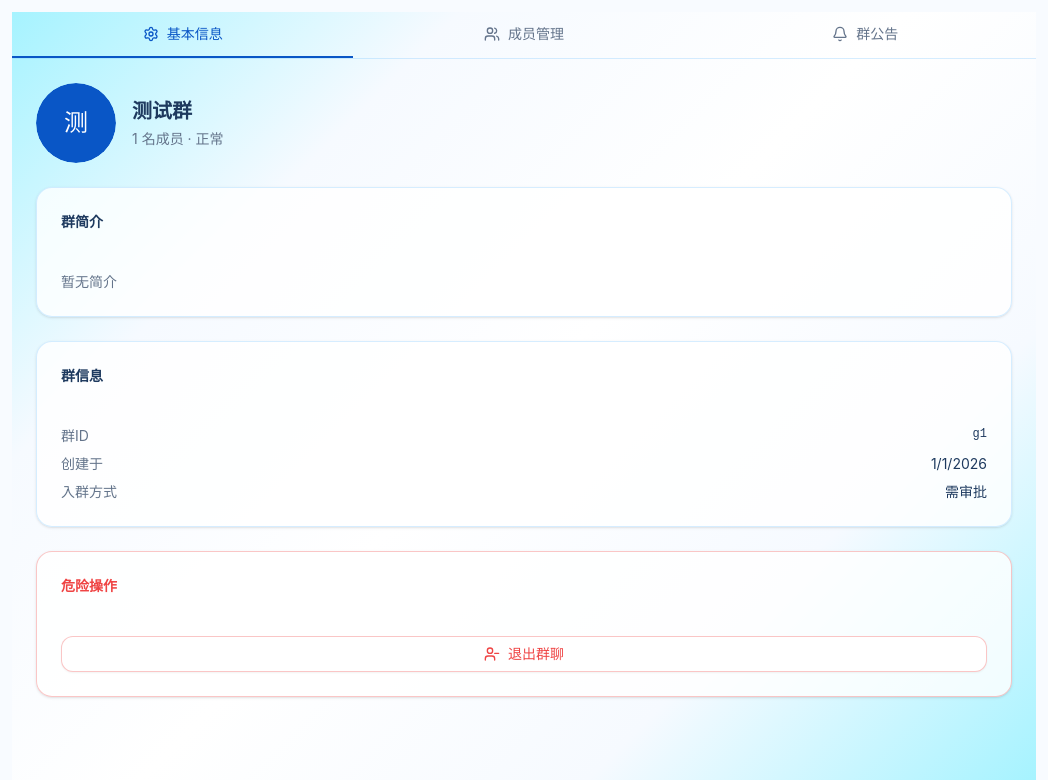
Scenario: GroupManagement 成员列表三态（loadMembers → membersError） › 真正的空列表：显示"暂无成员"，不显示错误或重试
Click the button "成员管理".
click(524, 35)  # box [353,12,695,58]
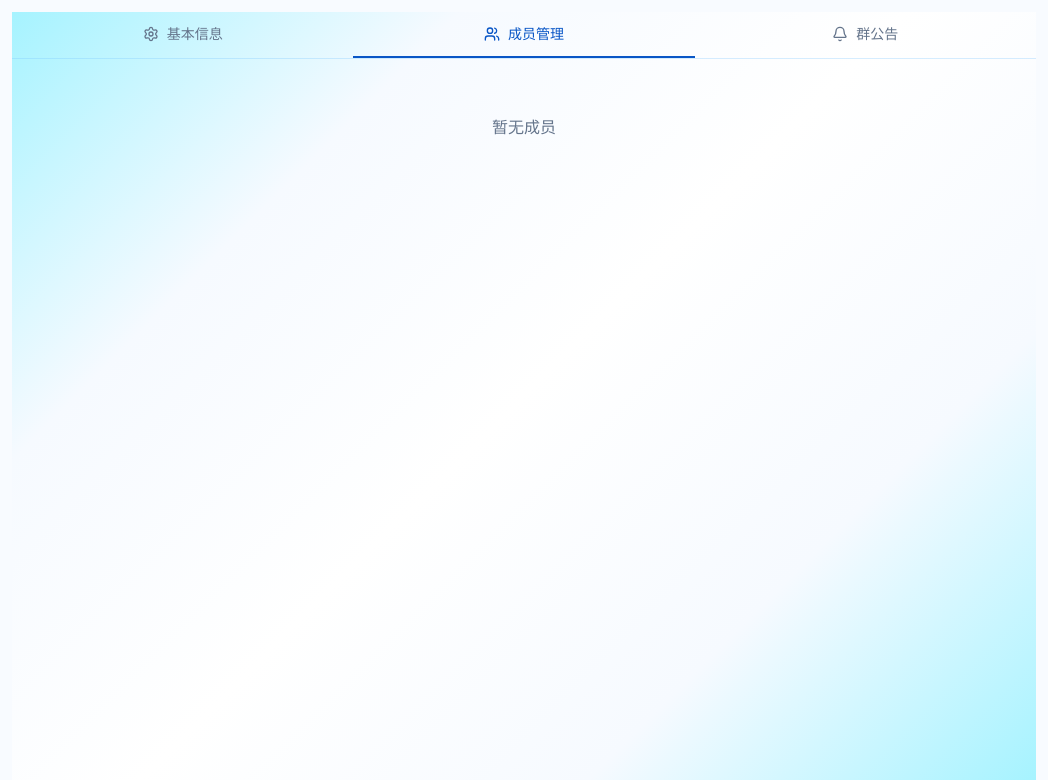
Expected: the text "暂无成员" is shown, [492,117,556,137]
